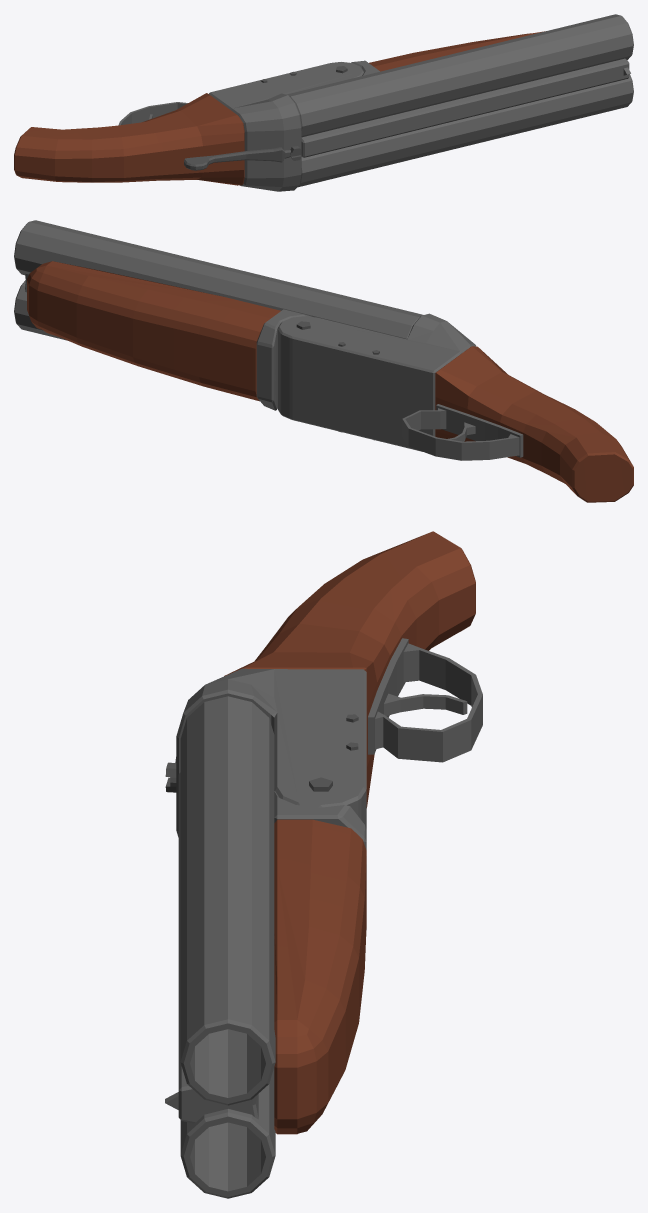
Rendered from Shotgun.glb.
The picture shows the model from 3 angles, top to bottom: view 1: azimuth 30°, elevation 25°; view 2: azimuth 150°, elevation 25°; view 3: azimuth 270°, elevation 25°; orthographic projection. The views are drawn at different scales.
Parts seen in each view (by area): view 1: Shotgun; view 2: Shotgun; view 3: Shotgun.
Boxes of the visible parts, box(x1,y1,x2,y2) form: Shotgun: box(14, 14, 633, 191); Shotgun: box(14, 220, 633, 502); Shotgun: box(165, 531, 482, 1198).
Bounding box in the file's own units: 0.4564 × 0.0729 × 0.1119.
1 material, 1 textured.
